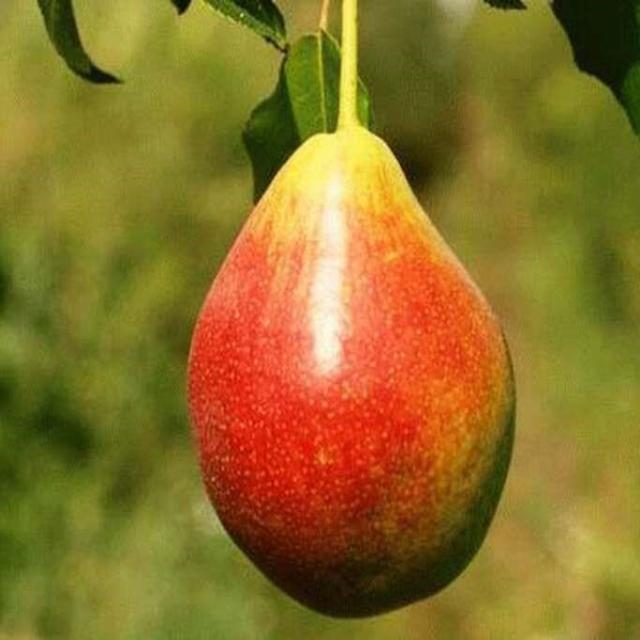pear: (181, 121, 521, 618)
